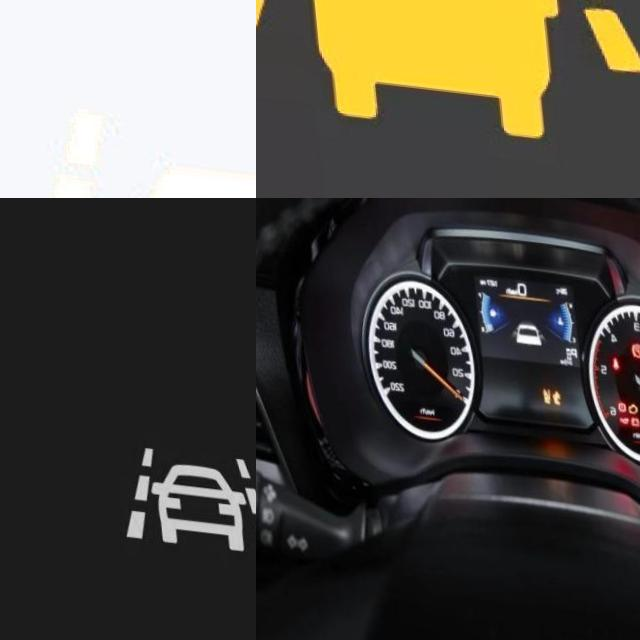Seat Belt: (606, 347, 614, 360)
